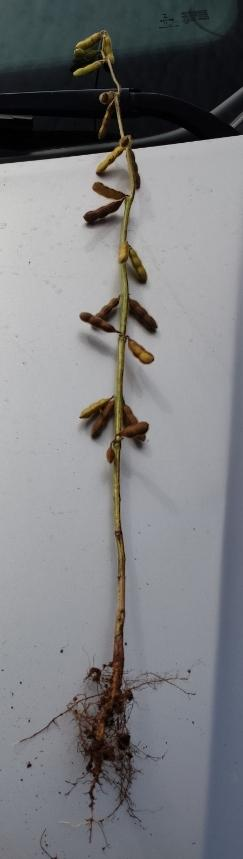soja: (69, 199, 125, 224), (131, 295, 161, 338), (81, 311, 118, 345), (86, 296, 122, 330), (123, 334, 159, 368), (96, 143, 130, 178), (123, 401, 151, 442), (89, 403, 115, 444), (77, 389, 110, 418), (127, 150, 148, 192), (133, 241, 153, 284), (97, 104, 116, 148), (88, 182, 128, 201), (112, 423, 151, 442), (71, 29, 104, 50), (70, 60, 107, 78), (70, 42, 106, 59), (112, 236, 125, 266), (93, 90, 115, 106), (99, 449, 117, 467), (105, 32, 114, 67)
